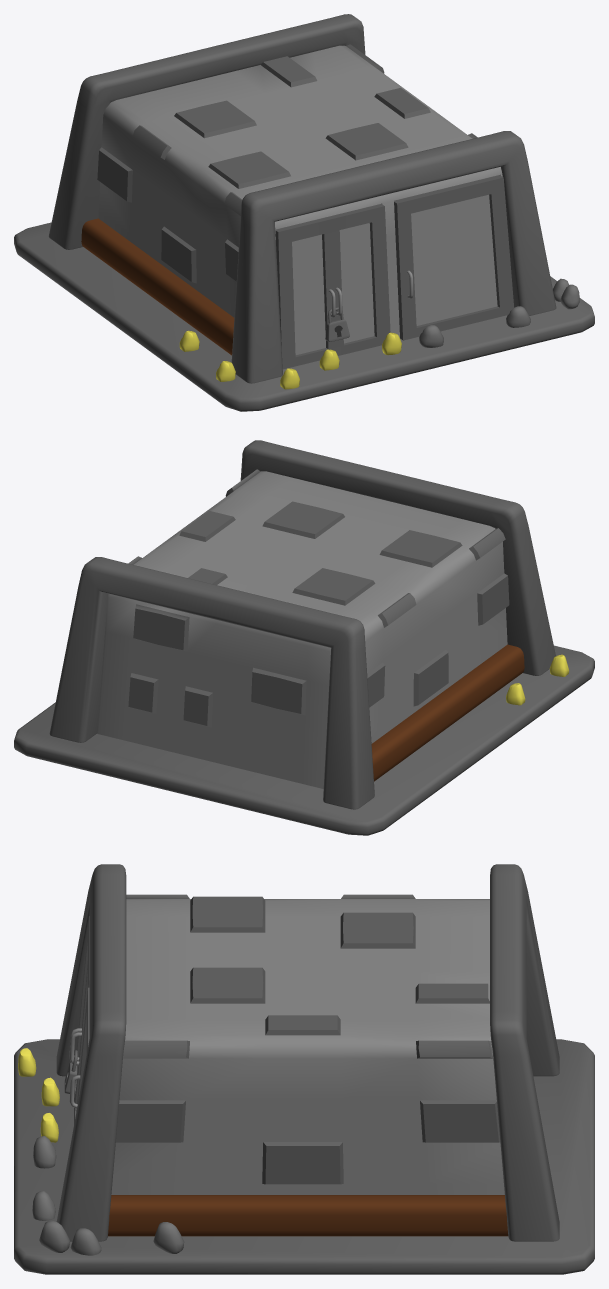
Rendered from gold and stone storage level2.fbx.
3 views of the same model, one above another, from view 1: azimuth 30°, elevation 25°; view 2: azimuth 150°, elevation 25°; view 3: azimuth 270°, elevation 25° (orthographic). The views are drawn at different scales.
Visible parts, largest first — view 1: Cube.046; view 2: Cube.046; view 3: Cube.046.
Part boxes in pixels (x1,y1,x2,y2): Cube.046: (14,14,594,411); Cube.046: (14,440,594,835); Cube.046: (14,864,594,1274).
Bounding box in the file's own units: 1474 × 688 × 1629.
